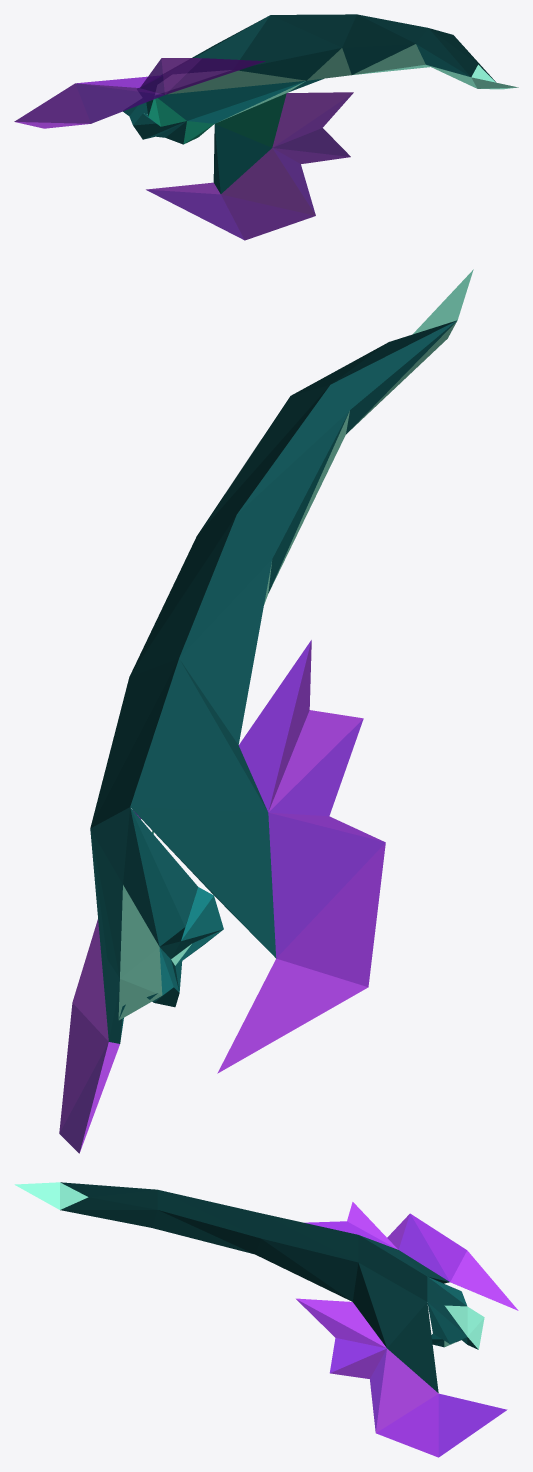
Rendered from male_Toxic_blowpipe-v5.glb.
The picture shows the model from 3 angles, top to bottom: view 1: azimuth 30°, elevation 25°; view 2: azimuth 150°, elevation 25°; view 3: azimuth 270°, elevation 25°; orthographic projection. The views are drawn at different scales.
Bounding box in the file's own units: 40.01 × 53.01 × 88.
Materials: 2 (2 with a texture image).
